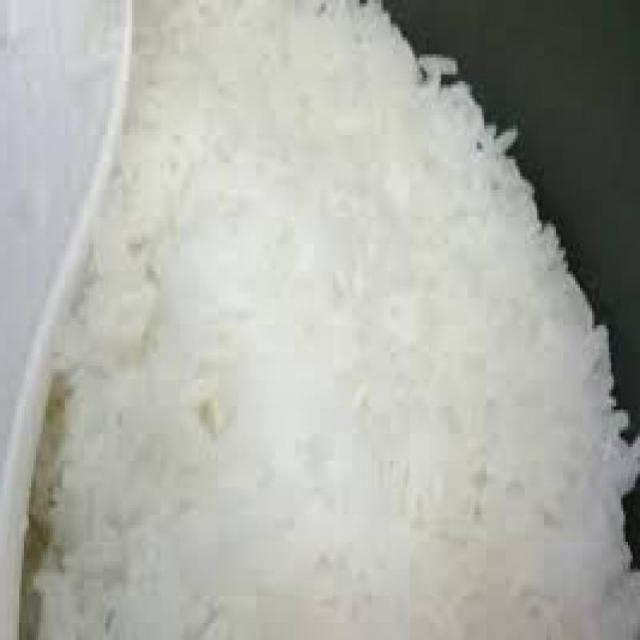rice: (26, 10, 625, 637)
